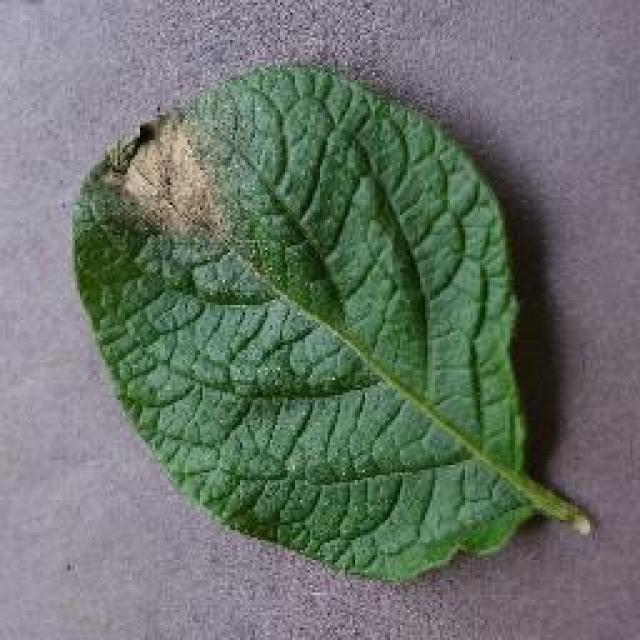late_blight: (65, 57, 587, 585)
